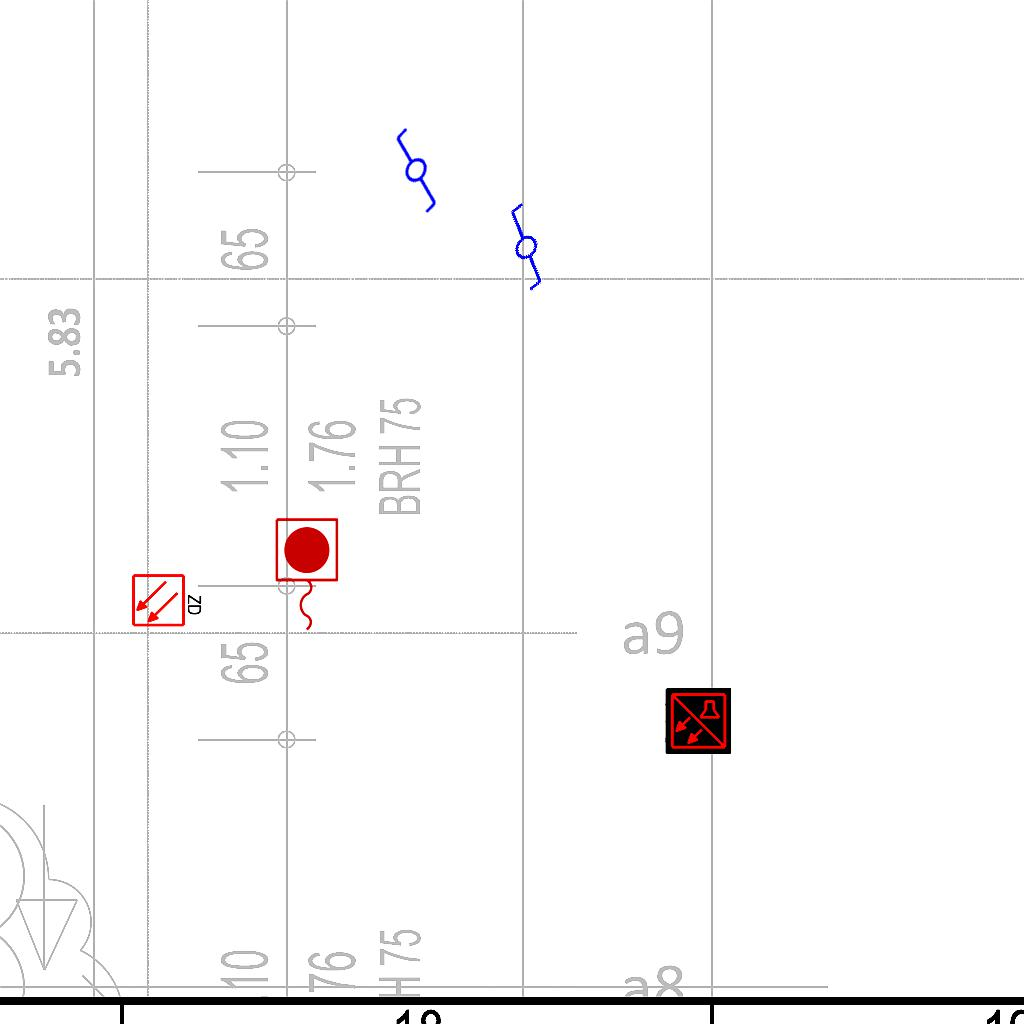OKW_Multisensormelder_(Kombination_optischer_Rauch-Kahlenmonoxid_Waerme-Melder): (665, 688, 731, 754)
Wechselschalter: (470, 197, 576, 303), (368, 115, 470, 219)
ZD_Melder_in_Zwischendecke_mit_Revisionsoeffnung_mind_40_x_40_cm: (131, 571, 205, 628)
Zugtaster: (270, 514, 342, 636)
